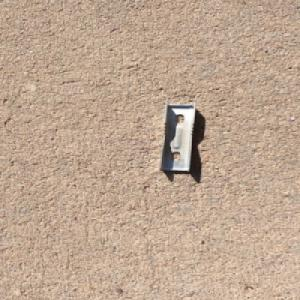ClampPart: (158, 100, 199, 172)
